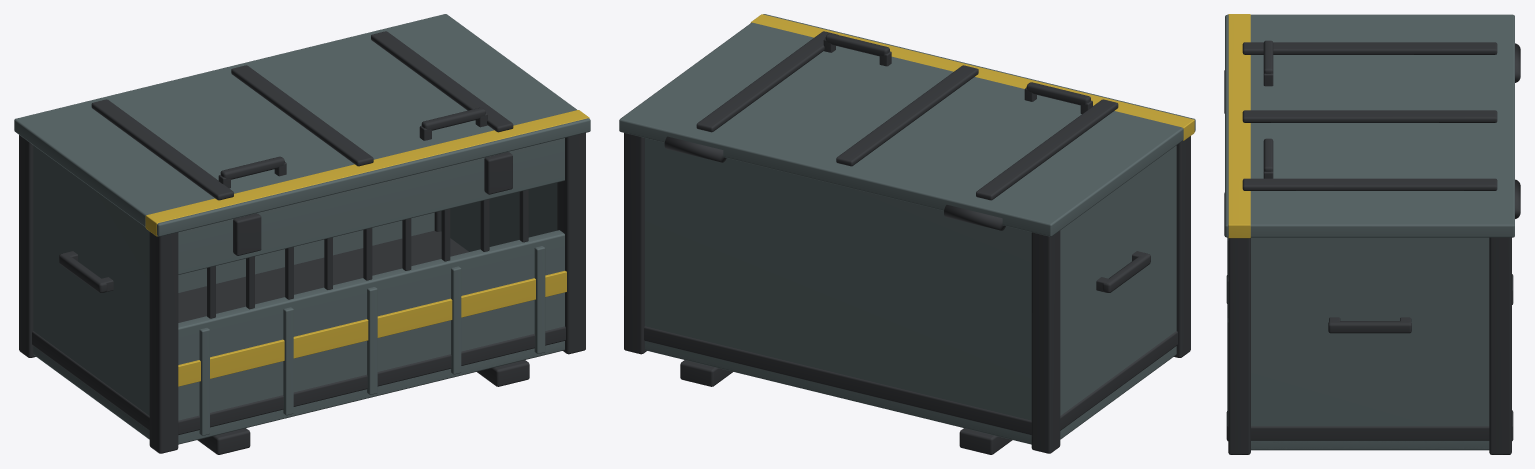
File: crate.glb
3 renders of one model, left to right at view 1: azimuth 30°, elevation 25°; view 2: azimuth 150°, elevation 25°; view 3: azimuth 270°, elevation 25°, orthographic.
Parts seen in each view (by area): view 1: body, lid; view 2: body, lid; view 3: lid, body.
Part boxes in pixels (x1,y1,x2,y2): body: (19, 133, 585, 454); lid: (14, 14, 590, 236); body: (624, 133, 1190, 454); lid: (619, 14, 1195, 236); lid: (1225, 14, 1520, 238); body: (1224, 70, 1513, 454).
Size of the model in its own units: 1.6 by 0.9 by 0.919.
